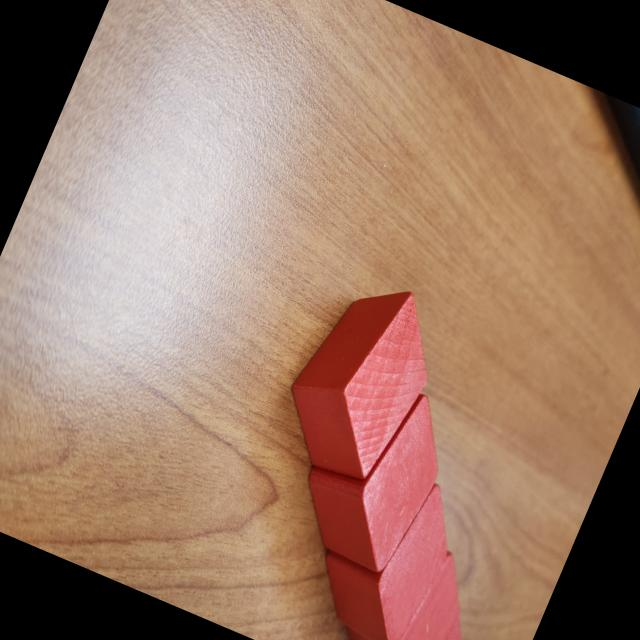red: (265, 261, 457, 494), (282, 362, 466, 580), (301, 454, 473, 640), (329, 525, 480, 640), (408, 609, 485, 640)
